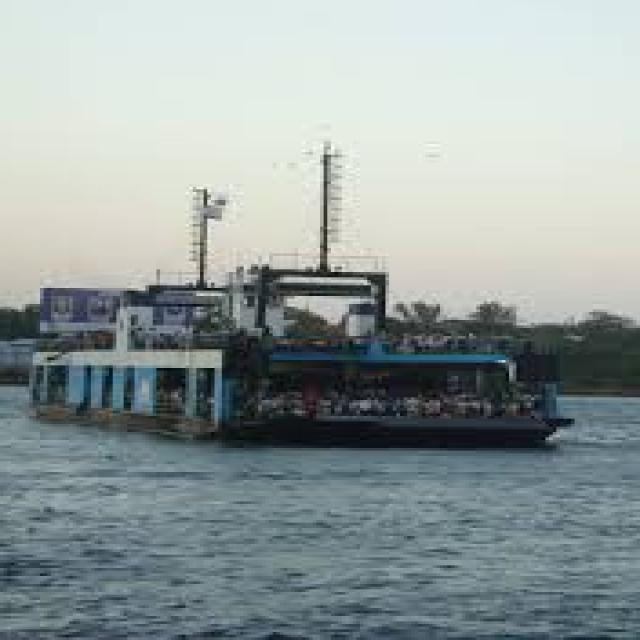passenger ship: (36, 243, 572, 446)
